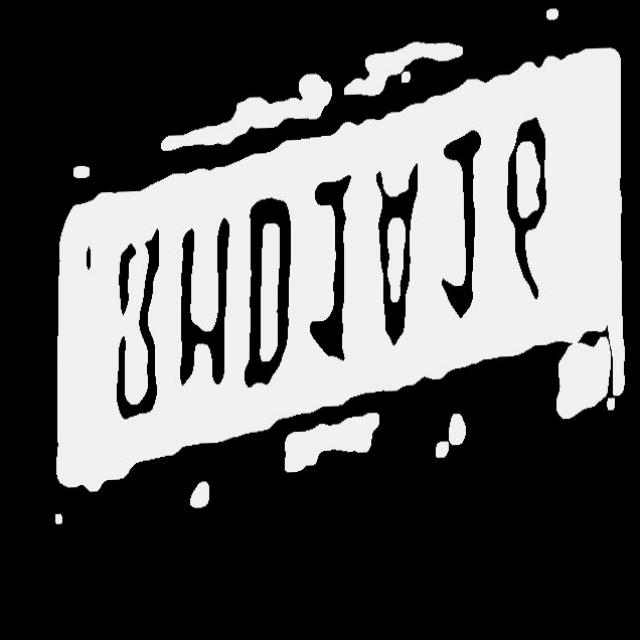1: (433, 128, 487, 330), (302, 172, 355, 375)
6: (500, 115, 554, 313)
a: (368, 156, 423, 356)
d: (241, 194, 297, 396)
h: (175, 214, 235, 399)
r: (109, 226, 167, 426)
